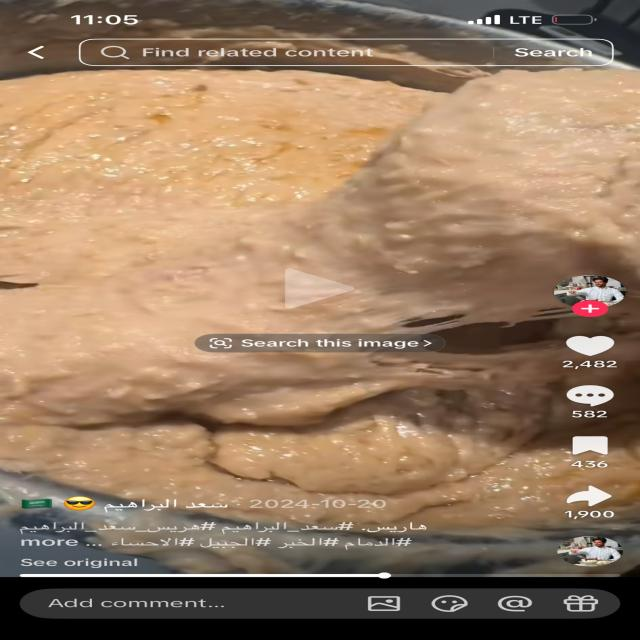Harees: (3, 63, 640, 529)
